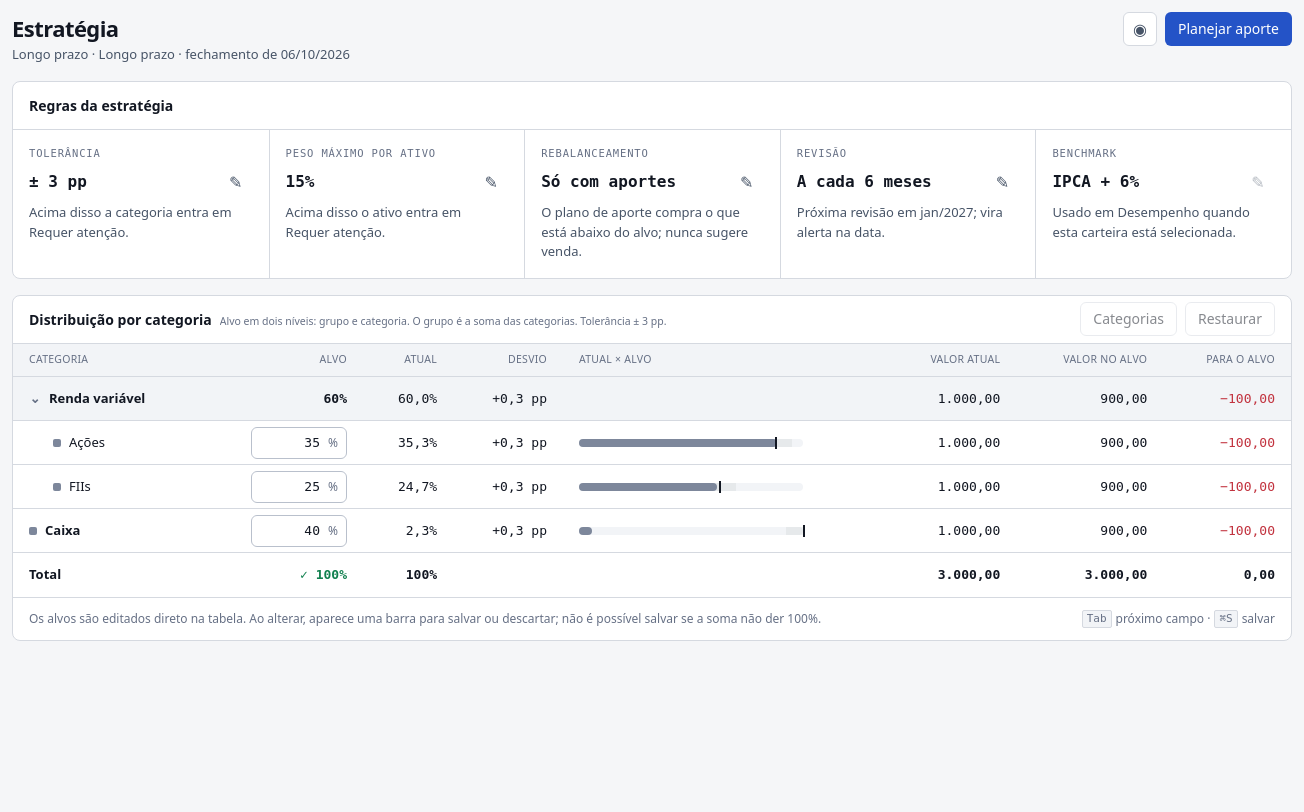
it: editar e salvar › o erro da api volta na barra, com o texto dela, e o rascunho fica
Replace the text in the field named "Alvo de Ações" with "30": {"x": 290, "y": 443} [252,433,328,452]
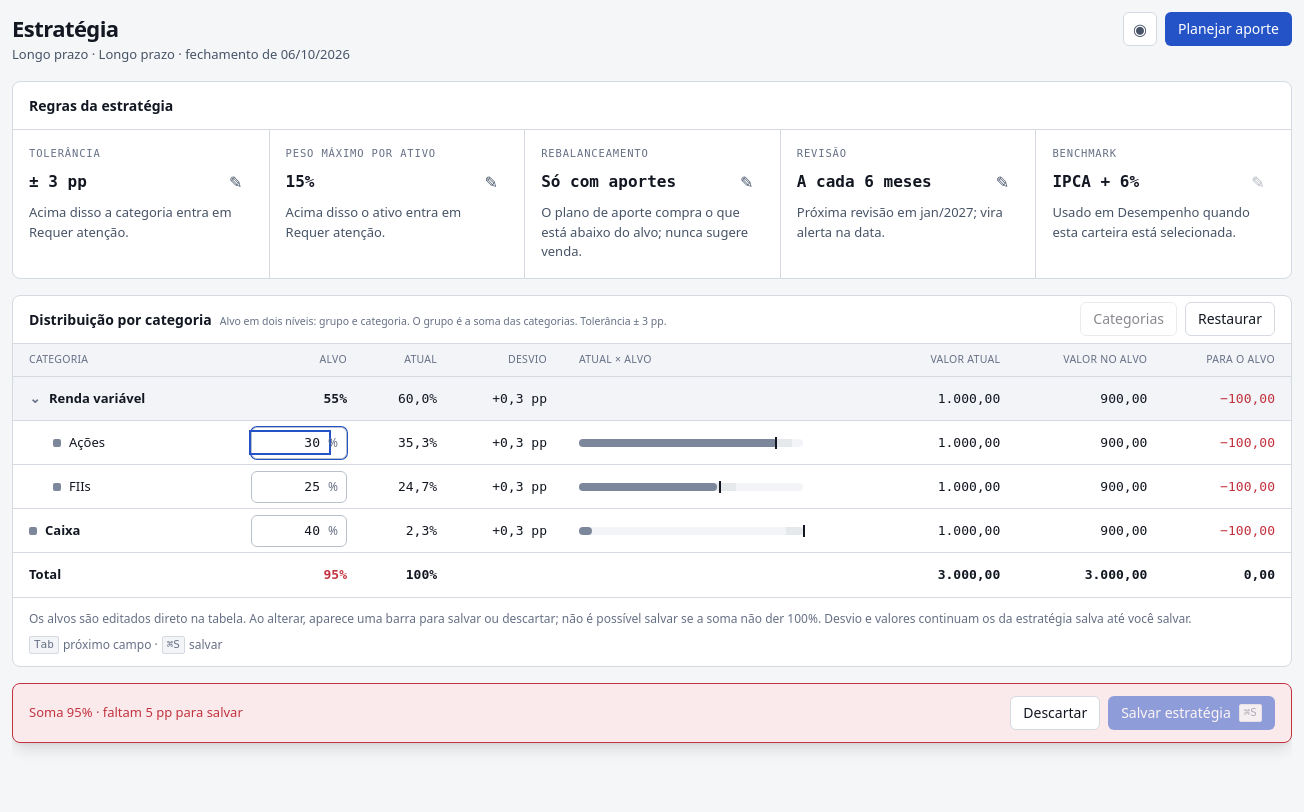
Replace the text in the field named "Alvo de FIIs" with "30": {"x": 290, "y": 487} [252,477,328,496]
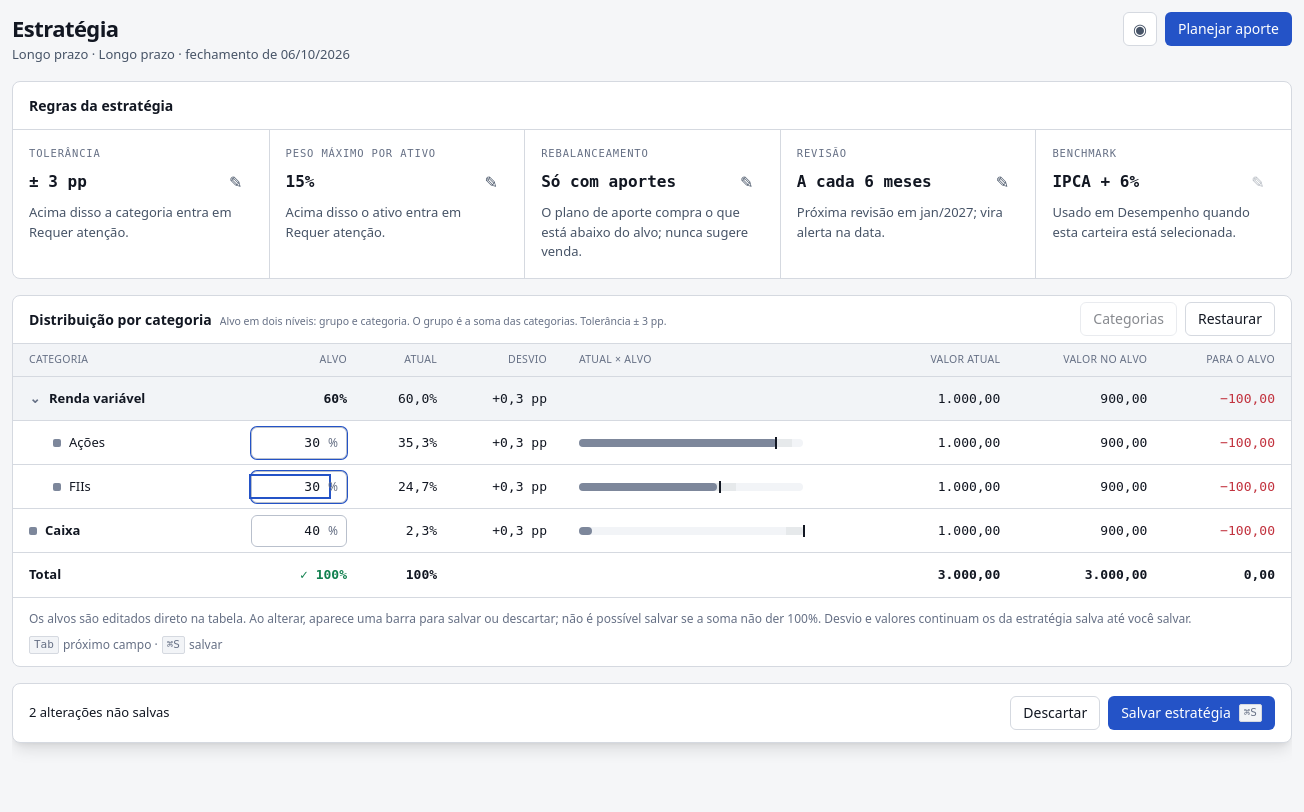
Click the button "Salvar estratégia ⌘S": {"x": 1192, "y": 713} [1108,696,1275,730]
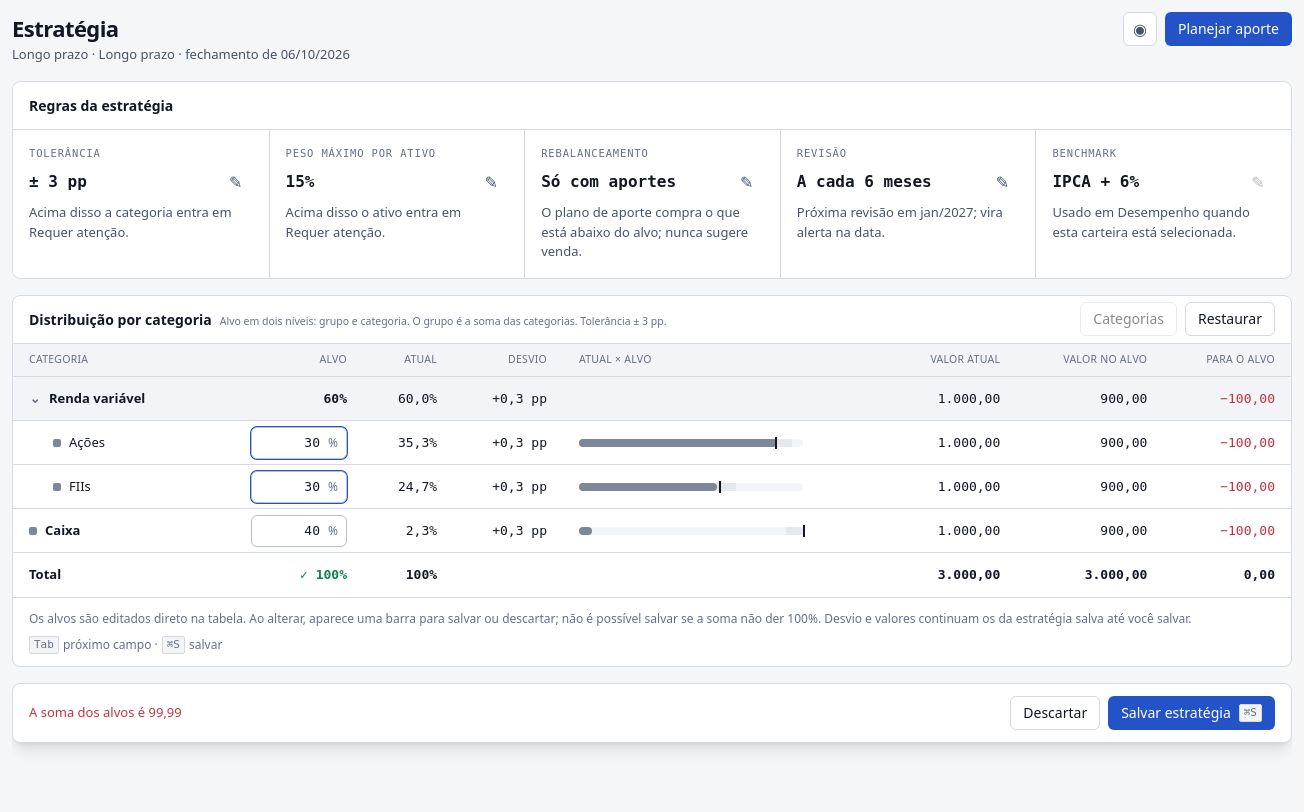
Check: the text "A soma dos alvos é 99,99" is shown, box [29,703,182,723]
